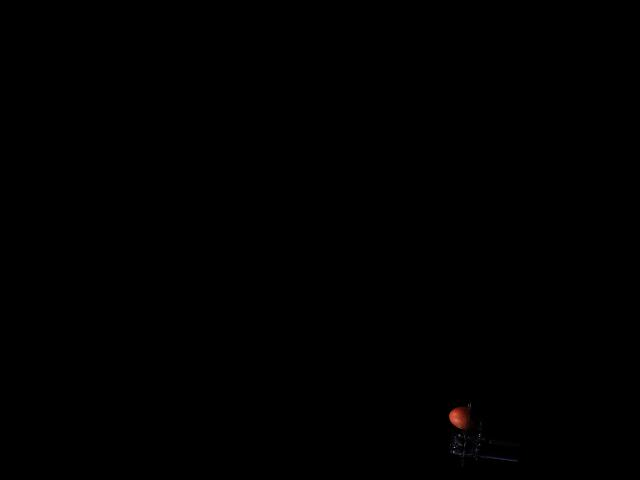egg: (448, 403, 482, 431)
